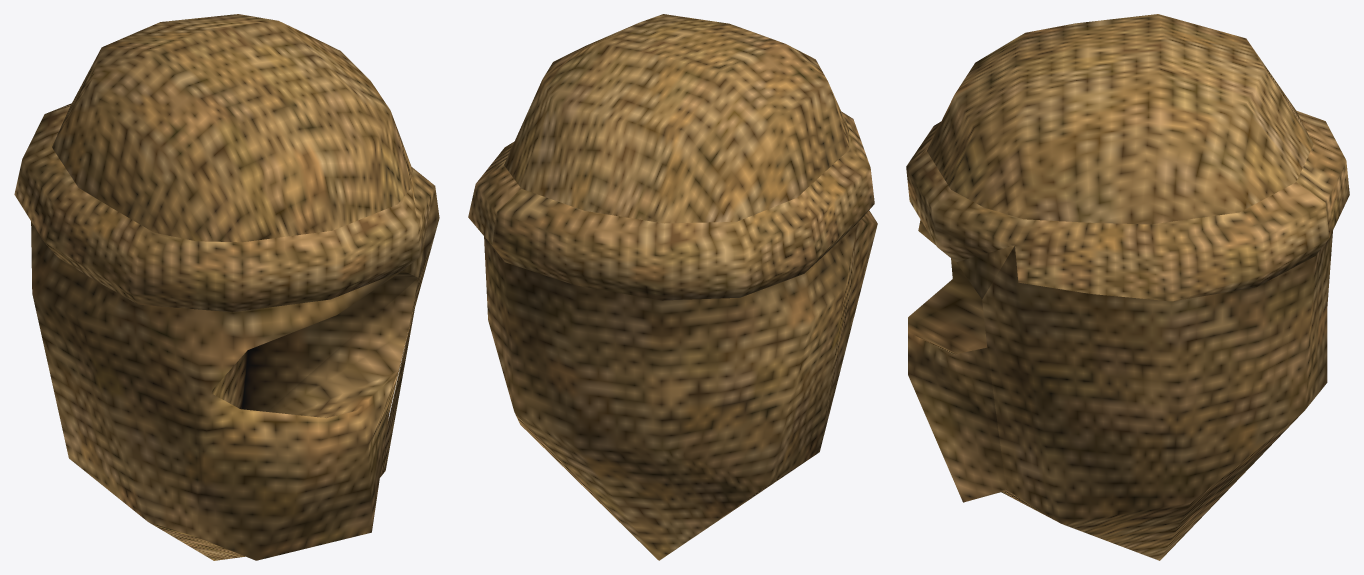
File: IR_Shemagh04_Sandy.glb
3 renders of one model, left to right at view 1: azimuth 30°, elevation 25°; view 2: azimuth 150°, elevation 25°; view 3: azimuth 270°, elevation 25°, orthographic. The views are drawn at different scales.
Parts seen in each view (by area): view 1: IR_SHEMAGH04_SANDY; view 2: IR_SHEMAGH04_SANDY; view 3: IR_SHEMAGH04_SANDY.
Boxes of the visible parts, x1,y1,x2,y2 form: IR_SHEMAGH04_SANDY: (14,14,439,560); IR_SHEMAGH04_SANDY: (468,14,877,560); IR_SHEMAGH04_SANDY: (906,14,1349,560).
Size of the model in its own units: 0.226 by 0.333 by 0.257.
Materials: 1 (1 with a texture image).
